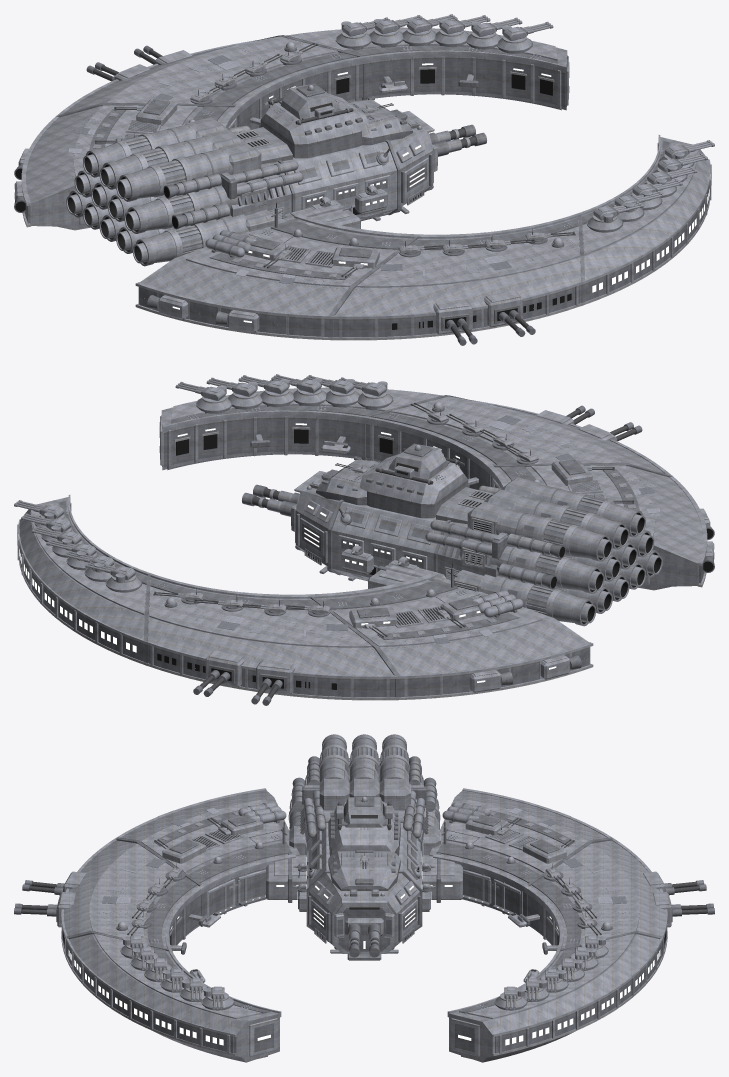
3 views of the same model, one above another, from view 1: azimuth 30°, elevation 25°; view 2: azimuth 150°, elevation 25°; view 3: azimuth 270°, elevation 25° (orthographic). The views are drawn at different scales.
Parts seen in each view (by area): view 1: arm_aft_mid.R, arm_mid_light.R, arm_mid_mid.R, arm_mid_light, arm_fore_dark, core_mid_light, arm_aft_light.R, arm_aft_mid, arm_mid_dark.R, arm_aft_dark.R, arm_fore_mid.R, arm_mid_dark (+37 smaller); view 2: arm_aft_mid, arm_mid_light, arm_mid_mid, arm_mid_light.R, arm_fore_dark.R, core_mid_light, arm_aft_light, arm_aft_mid.R, arm_mid_dark, arm_aft_dark, arm_fore_mid, arm_mid_dark.R (+37 smaller); view 3: arm_mid_light, arm_mid_light.R, arm_fore_mid, arm_fore_mid.R, arm_aft_mid.R, arm_aft_mid, arm_aft_light, arm_aft_light.R, arm_aft_dark, arm_aft_dark.R, arm_fore_light, arm_fore_light.R (+25 smaller).
Part boxes in pixels (x1,y1,x2,y2): arm_aft_mid.R: [138, 205, 412, 336]; arm_mid_light.R: [330, 213, 582, 340]; arm_mid_mid.R: [335, 217, 580, 337]; arm_mid_light: [56, 36, 366, 115]; arm_fore_dark: [253, 35, 569, 110]; core_mid_light: [261, 93, 397, 220]; arm_aft_light.R: [135, 205, 418, 339]; arm_aft_mid: [14, 98, 236, 230]; arm_mid_dark.R: [328, 218, 580, 345]; arm_aft_dark.R: [139, 206, 410, 336]; arm_fore_mid.R: [581, 137, 711, 294]; arm_mid_dark: [57, 45, 362, 129]; arm_aft_mid: [316, 565, 590, 696]; arm_mid_light: [146, 573, 398, 700]; arm_mid_mid: [148, 577, 393, 697]; arm_mid_light.R: [362, 396, 672, 475]; arm_fore_dark.R: [159, 395, 475, 470]; core_mid_light: [331, 453, 467, 579]; arm_aft_light: [310, 565, 593, 699]; arm_aft_mid.R: [492, 458, 714, 590]; arm_mid_dark: [148, 578, 400, 705]; arm_aft_dark: [318, 566, 589, 696]; arm_fore_mid: [17, 497, 147, 654]; arm_mid_dark.R: [366, 405, 671, 489]; arm_mid_light: [508, 838, 669, 957]; arm_mid_light.R: [59, 838, 220, 957]; arm_fore_mid: [449, 934, 659, 1062]; arm_fore_mid.R: [69, 934, 279, 1062]; arm_aft_mid.R: [121, 790, 306, 914]; arm_aft_mid: [422, 790, 607, 914]; arm_aft_light: [422, 788, 612, 914]; arm_aft_light.R: [116, 788, 306, 914]; arm_aft_dark: [436, 803, 574, 915]; arm_aft_dark.R: [154, 803, 292, 915]; arm_fore_light: [447, 933, 662, 1056]; arm_fore_light.R: [66, 933, 281, 1056].
Bounding box in the file's own units: 1000 × 237 × 1200.
7 materials, 4 textured.
